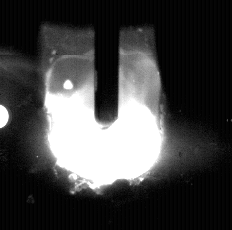arame: (95, 0, 120, 129)
poca: (47, 0, 163, 230)
